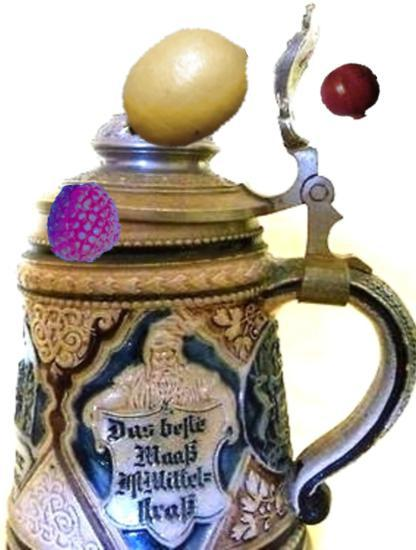Lemon: (113, 17, 256, 160)
Pomegranate: (321, 63, 381, 123)
Raspberry: (44, 184, 123, 263)
